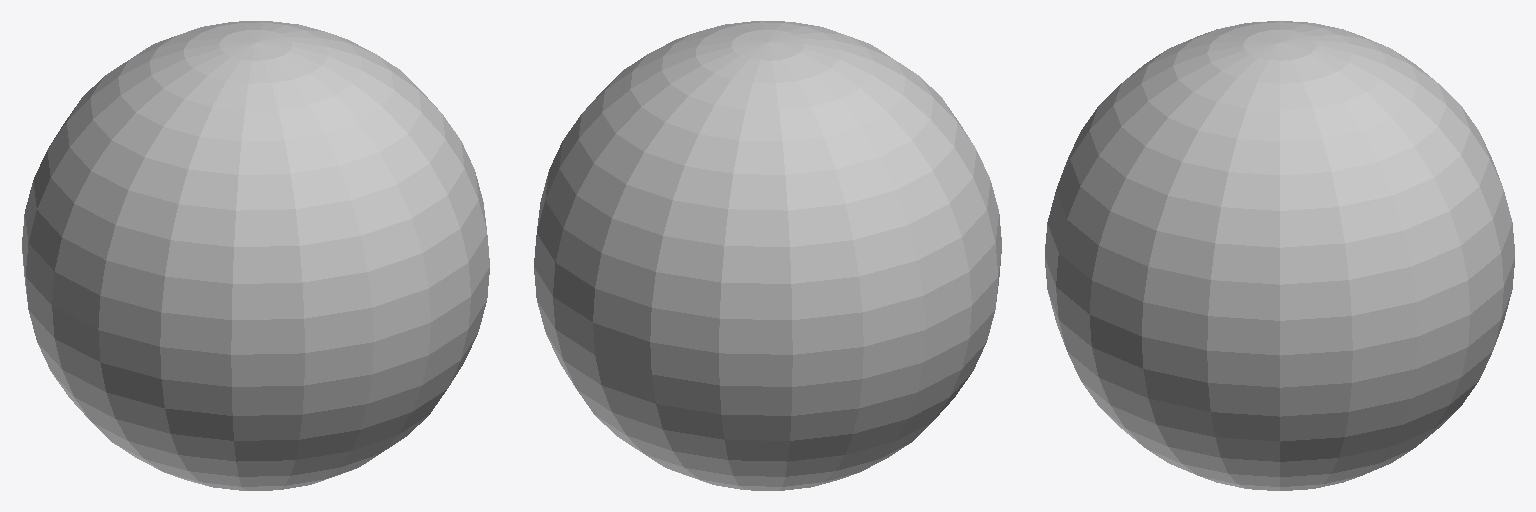
The model's file is Space.obj.
3 renders of one model, left to right at view 1: azimuth 30°, elevation 25°; view 2: azimuth 150°, elevation 25°; view 3: azimuth 270°, elevation 25°, orthographic.
Visible parts, largest first — view 1: obj2; view 2: obj2; view 3: obj2.
Boxes of the visible parts, box(x1,y1,x2,y2) form: obj2: box(22, 21, 489, 490); obj2: box(534, 21, 1001, 490); obj2: box(1045, 21, 1514, 490).
Size of the model in its own units: 2 by 2 by 2.